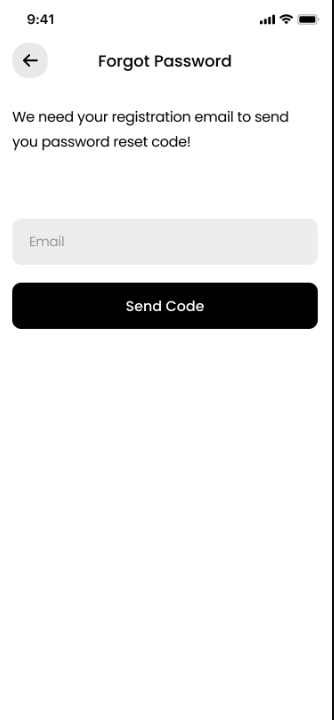AppBar: (1, 28, 334, 81)
Button: (11, 281, 319, 331)
IconButton: (11, 41, 48, 78)
Input: (11, 215, 320, 268)
